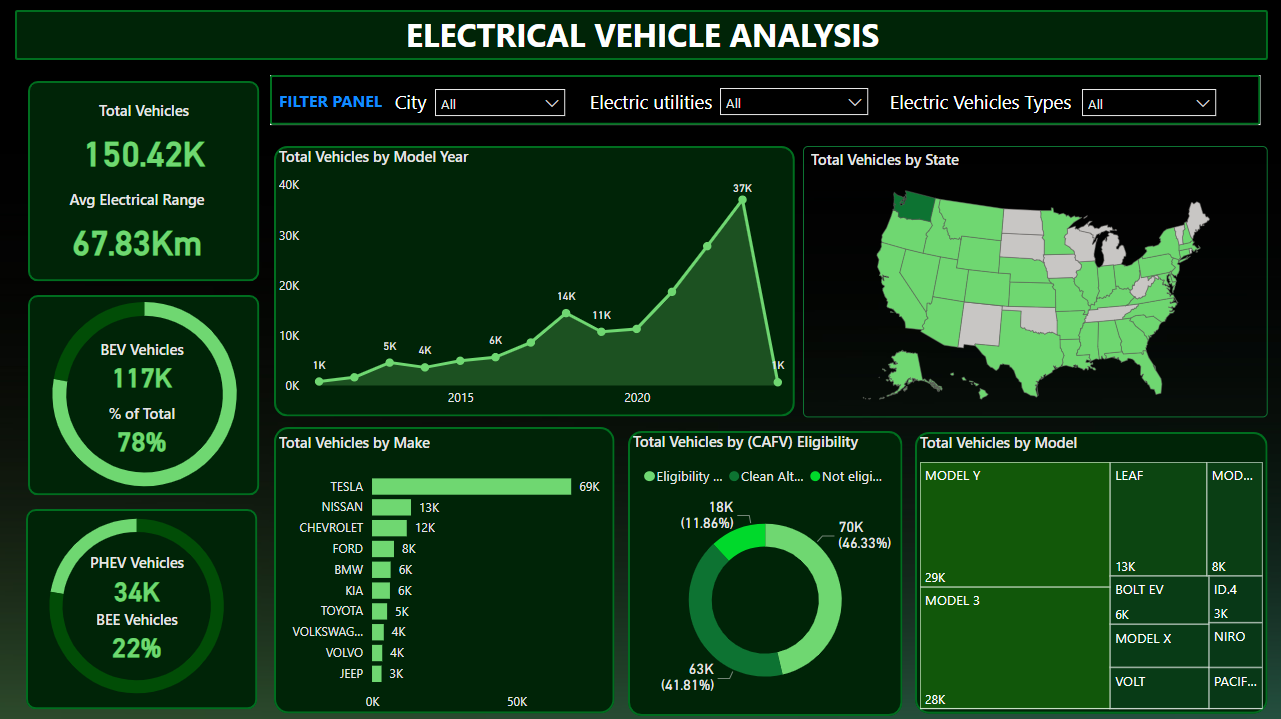

Layout of this report page (visuals, bound fields, positions):
{"tool":"powerbi","page":{"name":"Page 1","canvas":[1280,720],"ordinal":0},"visuals":[{"type":"shape","box":[15,11,1251.1,49.9],"z":0},{"type":"textbox","box":[400.8,8,550.6,56.7],"z":1000},{"type":"shape","box":[28.4,81.6,231.4,200.4],"z":2000},{"type":"card","title":"Total Vehicles","fields":{"Values":["Electric_Vehicle_Population_Data.Total Vehicles"]},"box":[45.4,100.8,197.5,81.6],"z":3000},{"type":"card","title":"Avg Electrical Range","fields":{"Values":["Electric_Vehicle_Population_Data.Avg Range"]},"box":[38.3,189.5,197.5,81.6],"z":4000},{"type":"shape","box":[28.4,295.3,231.4,200.4],"z":5000},{"type":"shape","box":[25.7,509,231.4,200.4],"z":6000},{"type":"donutChart","fields":{"Category":["Electric_Vehicle_Population_Data.Electric Vehicle Type"],"Y":["Electric_Vehicle_Population_Data.Total Vehicles"]},"box":[0,274.9,289.1,240.3],"z":7000},{"type":"card","title":"BEV Vehicles","fields":{"Values":["Electric_Vehicle_Population_Data.BEV VEHICLE"]},"box":[48.4,339.7,187.5,55.4],"z":8000},{"type":"card","title":"% of Total","fields":{"Values":["Electric_Vehicle_Population_Data.% of BEE Vehicle"]},"box":[48.4,403.1,187.5,55.4],"z":9000},{"type":"donutChart","fields":{"Category":["Electric_Vehicle_Population_Data.Electric Vehicle Type"],"Y":["Electric_Vehicle_Population_Data.Total Vehicles"]},"box":[13.1,491.8,246.9,227.8],"z":10000},{"type":"card","title":"PHEV Vehicles","fields":{"Values":["Electric_Vehicle_Population_Data.PHEV VEHICLE"]},"box":[43.3,552.3,187.5,56.4],"z":11000},{"type":"card","title":"BEE Vehicles","fields":{"Values":["Electric_Vehicle_Population_Data.% of PHEV Vehicle"]},"box":[43.3,608.8,187.5,55.4],"z":12000},{"type":"shape","box":[274,146.3,519.6,270.4],"z":13000},{"type":"areaChart","fields":{"Category":["Electric_Vehicle_Population_Data.Model Year"],"Y":["Electric_Vehicle_Population_Data.Total Vehicles"]},"box":[273.4,146.7,520.8,270.4],"z":14000},{"type":"shapeMap","fields":{"Category":["Electric_Vehicle_Population_Data.State"],"Value":["Electric_Vehicle_Population_Data.Total Vehicles"]},"box":[801.7,146.8,464.3,270.6],"z":15000},{"type":"shape","box":[274,427.4,340.5,286.4],"z":16000},{"type":"clusteredBarChart","fields":{"Category":["Electric_Vehicle_Population_Data.Make"],"Y":["Electric_Vehicle_Population_Data.Total Vehicles"]},"box":[273.6,432.3,340.5,287.6],"z":17000},{"type":"shape","box":[626.9,430.9,274,284.6],"z":18000},{"type":"donutChart","title":"Total Vehicles by  (CAFV) Eligibility","fields":{"Category":["Electric_Vehicle_Population_Data.Clean Alternative Fuel Vehicle (CAFV) Eligibility"],"Y":["Electric_Vehicle_Population_Data.Total Vehicles"]},"box":[626.5,431,274.4,284.3],"z":19000},{"type":"shape","box":[913.6,427.3,352.4,281.6],"z":20000},{"type":"treemap","fields":{"Group":["Electric_Vehicle_Population_Data.Model"],"Values":["Electric_Vehicle_Population_Data.Total Vehicles"]},"box":[912.6,427.3,353.4,281.6],"z":21000},{"type":"shape","box":[269.6,76.3,988.7,49.7],"z":22000},{"type":"slicer","fields":{"Values":["Electric_Vehicle_Population_Data.City"]},"box":[424.3,79.9,149.8,41.9],"z":23000},{"type":"textbox","box":[369.4,84.9,80.9,38.9],"z":24000},{"type":"textbox","box":[273.6,85.9,136.8,33.9],"z":25000},{"type":"slicer","fields":{"Values":["Electric_Vehicle_Population_Data.Electric Utility"]},"box":[708.9,78.9,167.7,40.9],"z":26000},{"type":"textbox","box":[574.1,84.9,151.8,36.9],"z":27000},{"type":"slicer","fields":{"Values":["Electric_Vehicle_Population_Data.Electric Utility"]},"box":[1070.3,79.9,153.8,45.9],"z":27001},{"type":"textbox","box":[867.6,84.9,222.7,38.9],"z":27002}]}

Visuals, with their boxes in screenshot pixels (x1, y1, x2, y2), scaled from the page's 1280x720 canvas onto the 1281x719 screenshot:
shape: [x1=15, y1=11, x2=1267, y2=61]
textbox: [x1=401, y1=8, x2=952, y2=65]
shape: [x1=28, y1=81, x2=260, y2=282]
"Total Vehicles" card: [x1=45, y1=101, x2=243, y2=182]
"Avg Electrical Range" card: [x1=38, y1=189, x2=236, y2=271]
shape: [x1=28, y1=295, x2=260, y2=495]
shape: [x1=26, y1=508, x2=257, y2=708]
donutChart - Electric_Vehicle_Population_Data.Electric Vehicle Type x Electric_Vehicle_Population_Data.Total Vehicles: [x1=0, y1=275, x2=289, y2=514]
"BEV Vehicles" card: [x1=48, y1=339, x2=236, y2=395]
"% of Total" card: [x1=48, y1=403, x2=236, y2=458]
donutChart - Electric_Vehicle_Population_Data.Electric Vehicle Type x Electric_Vehicle_Population_Data.Total Vehicles: [x1=13, y1=491, x2=260, y2=718]
"PHEV Vehicles" card: [x1=43, y1=552, x2=231, y2=608]
"BEE Vehicles" card: [x1=43, y1=608, x2=231, y2=663]
shape: [x1=274, y1=146, x2=794, y2=416]
areaChart - Electric_Vehicle_Population_Data.Model Year x Electric_Vehicle_Population_Data.Total Vehicles: [x1=274, y1=146, x2=795, y2=417]
shapeMap - Electric_Vehicle_Population_Data.State x Electric_Vehicle_Population_Data.Total Vehicles: [x1=802, y1=147, x2=1267, y2=417]
shape: [x1=274, y1=427, x2=615, y2=713]
clusteredBarChart - Electric_Vehicle_Population_Data.Make x Electric_Vehicle_Population_Data.Total Vehicles: [x1=274, y1=432, x2=615, y2=718]
shape: [x1=627, y1=430, x2=902, y2=715]
"Total Vehicles by  (CAFV) Eligibility" donutChart: [x1=627, y1=430, x2=902, y2=714]
shape: [x1=914, y1=427, x2=1267, y2=708]
treemap - Electric_Vehicle_Population_Data.Model x Electric_Vehicle_Population_Data.Total Vehicles: [x1=913, y1=427, x2=1267, y2=708]
shape: [x1=270, y1=76, x2=1259, y2=126]
slicer - Electric_Vehicle_Population_Data.City: [x1=425, y1=80, x2=575, y2=122]
textbox: [x1=370, y1=85, x2=451, y2=124]
textbox: [x1=274, y1=86, x2=411, y2=120]
slicer - Electric_Vehicle_Population_Data.Electric Utility: [x1=709, y1=79, x2=877, y2=120]
textbox: [x1=575, y1=85, x2=726, y2=122]
slicer - Electric_Vehicle_Population_Data.Electric Utility: [x1=1071, y1=80, x2=1225, y2=126]
textbox: [x1=868, y1=85, x2=1091, y2=124]
